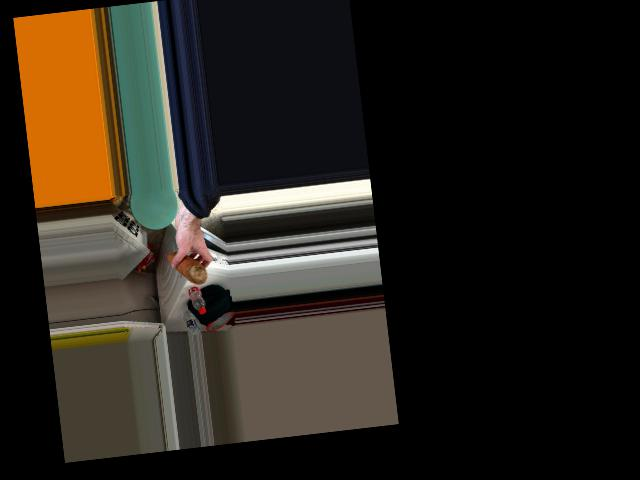sweet_potato: (163, 248, 211, 287)
